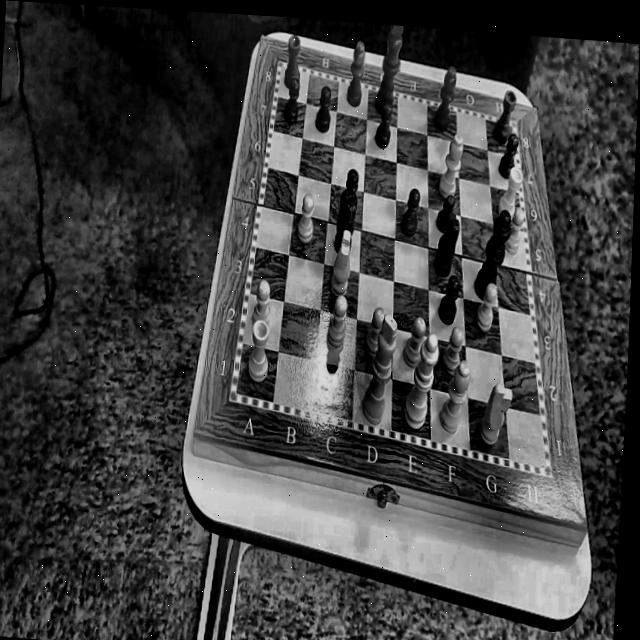chessboard: (237, 67, 545, 467)
